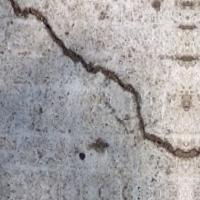crack: (12, 0, 199, 164)
